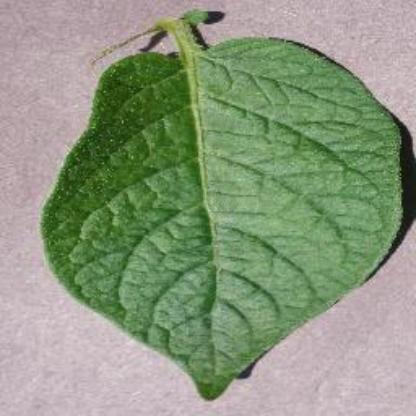Healthy-plant: (40, 8, 402, 400)
